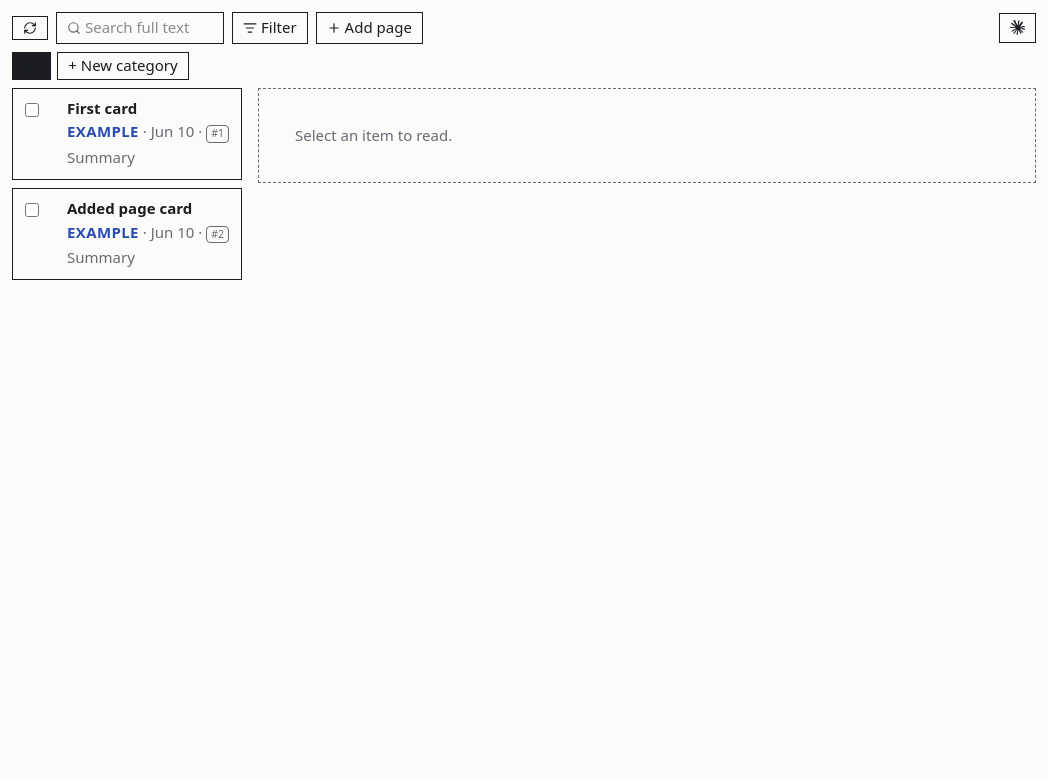
Test case: WorkspaceView add page › adding a page reloads the cards and opens the new card in the reader
The image size is (1048, 780).
Click the button "Add page" at (369, 28), box [316, 12, 423, 44]
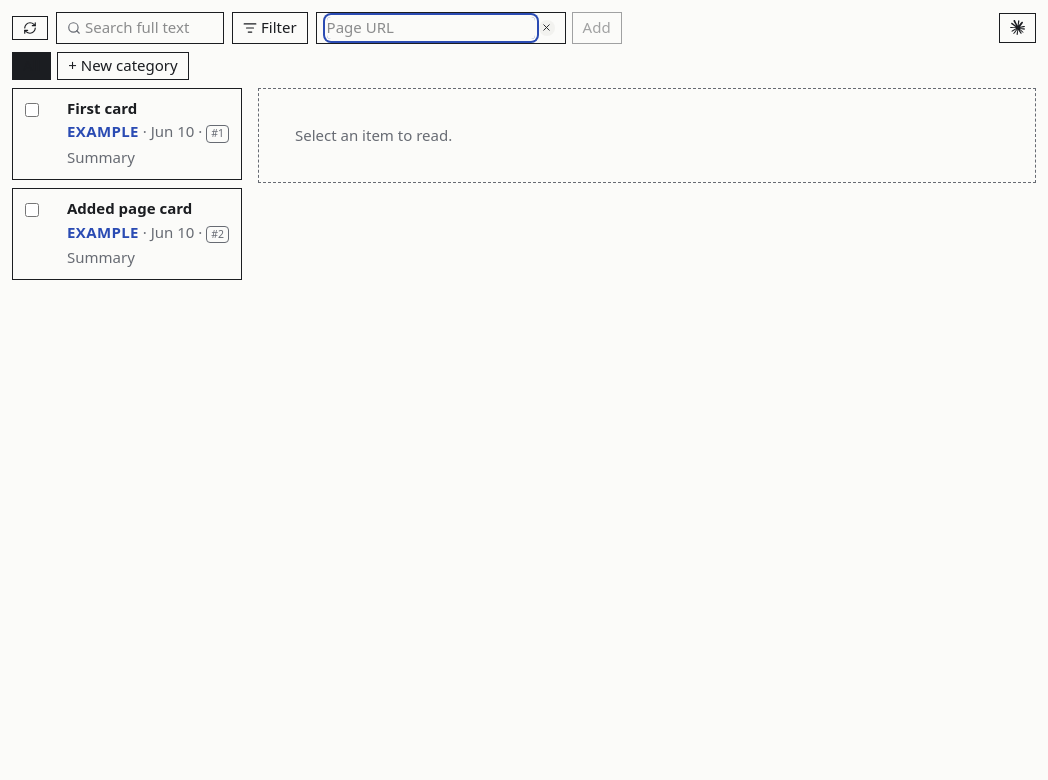
Type "https://example.com/post" into the field with placeholder "Page URL" at (431, 28), box [327, 17, 535, 39]
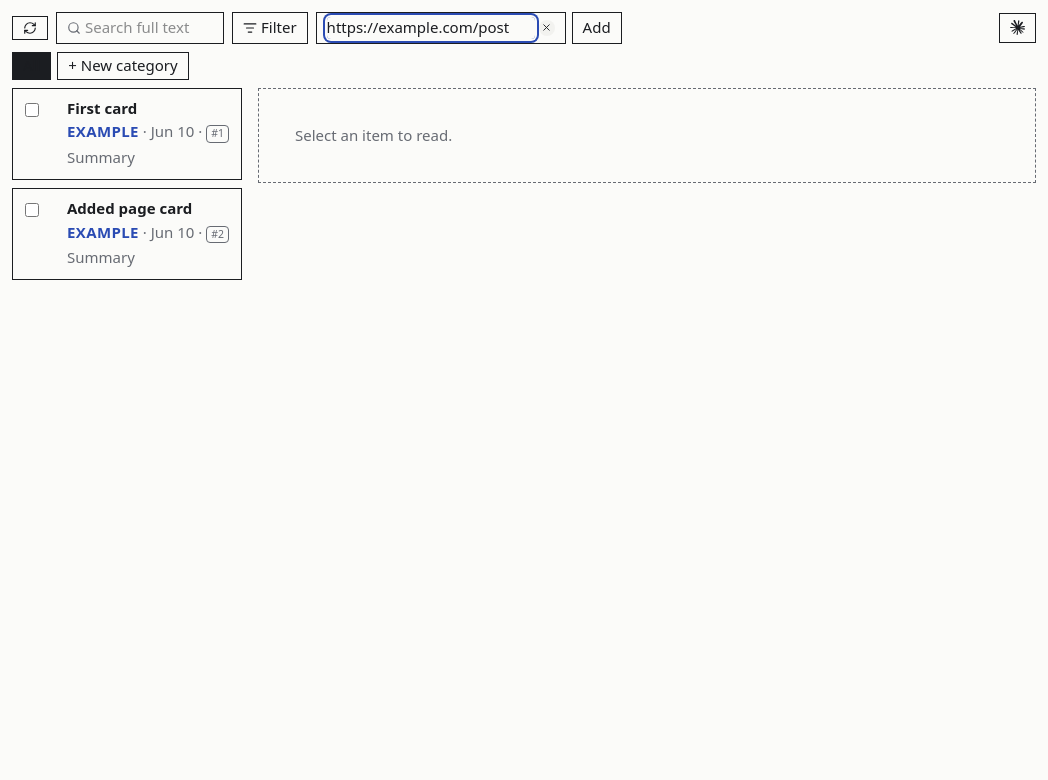
Click the button "Add" at (597, 28), box [572, 12, 622, 44]
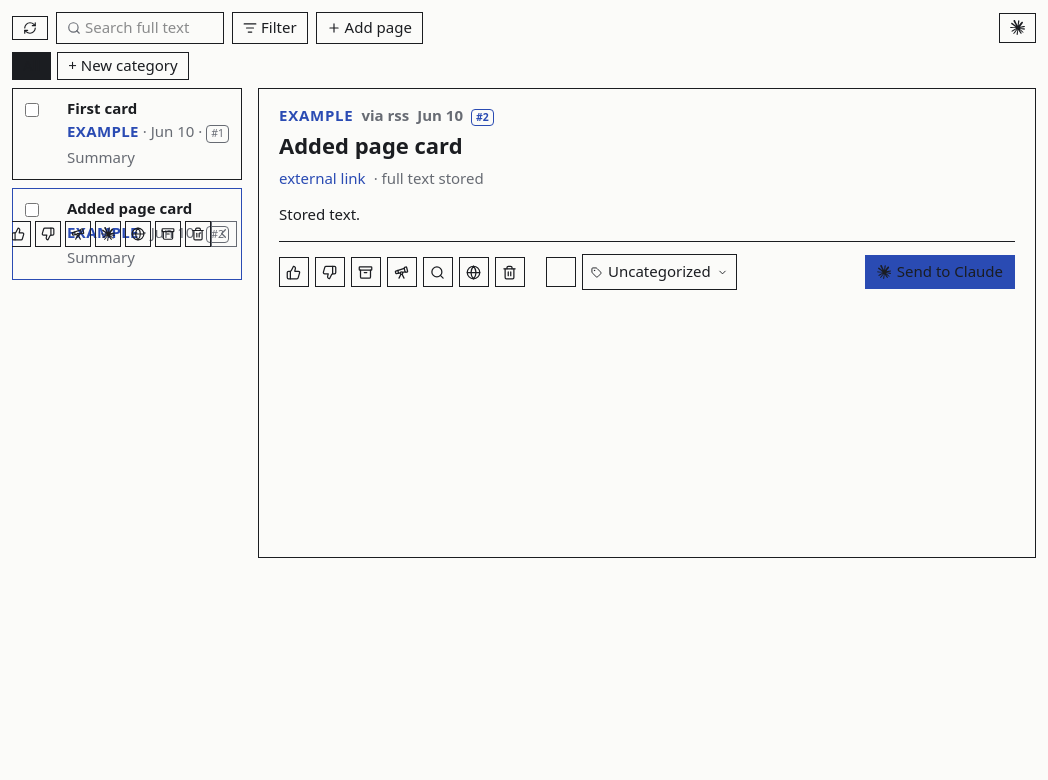
Check: the text "Stored text." is shown, box [279, 204, 360, 224]
